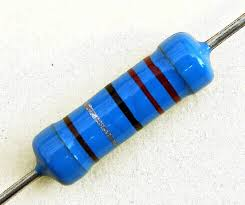resistor: (3, 23, 230, 205)
